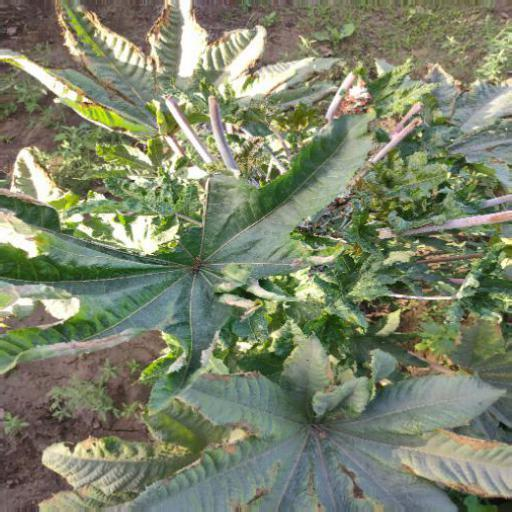weed: (12, 30, 497, 496)
